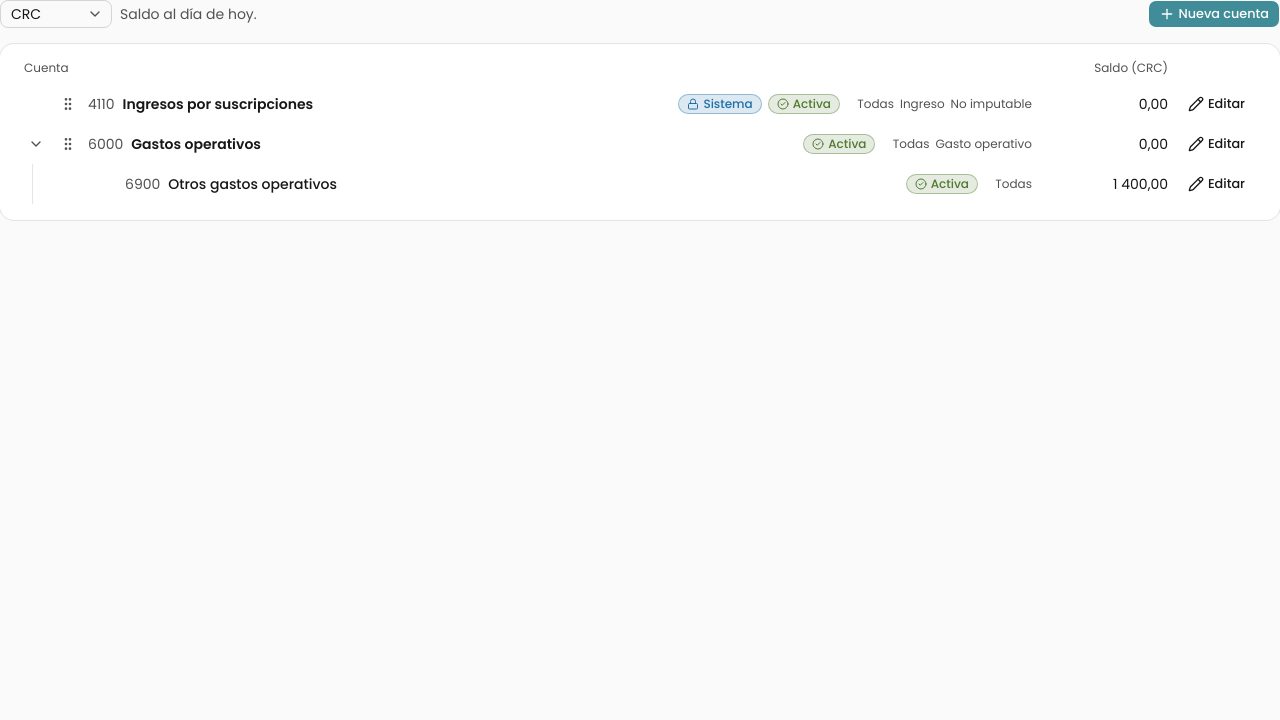
FinanceAccountsTree — cuentas del sistema › no se puede elegir como padre de una cuenta nueva
The image size is (1280, 720).
Click the button "Nueva cuenta": (1214, 14) [1148,0,1279,28]
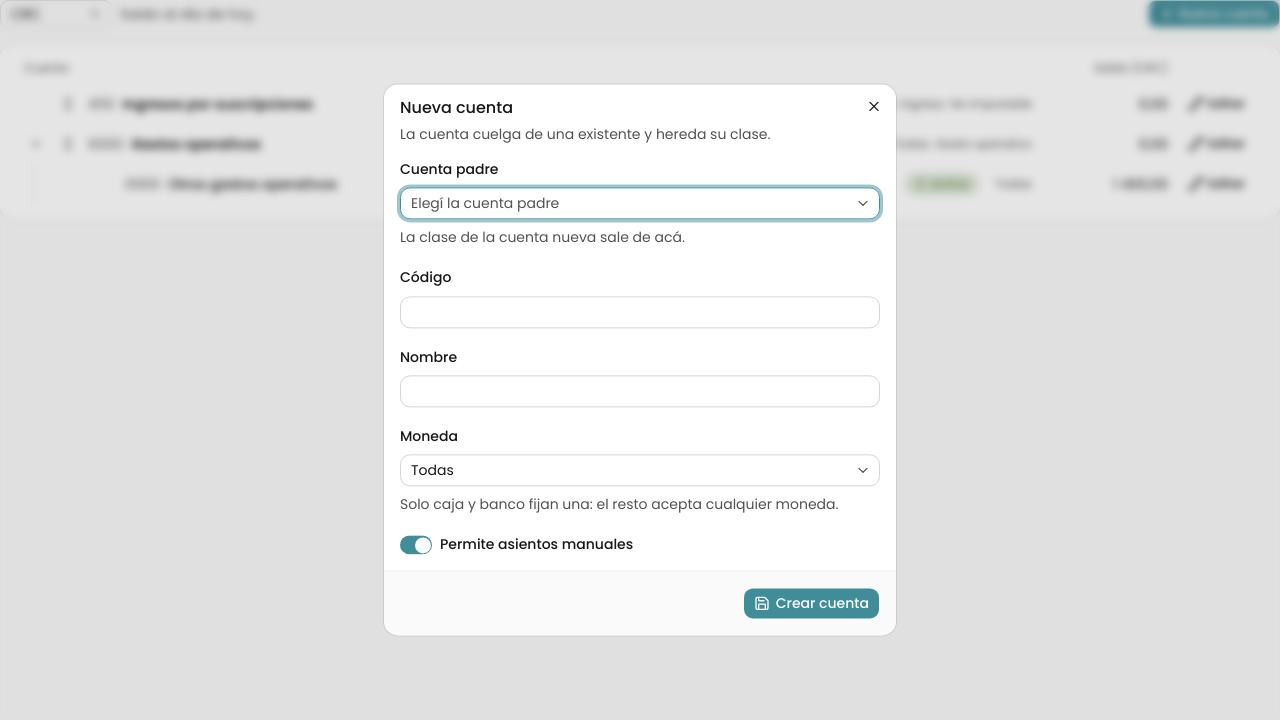
Expected: the dialog is shown, [384,84,896,636]
Click the dropdown labelled "Elegí la cuenta padre": (485, 204) [400,188,880,220]
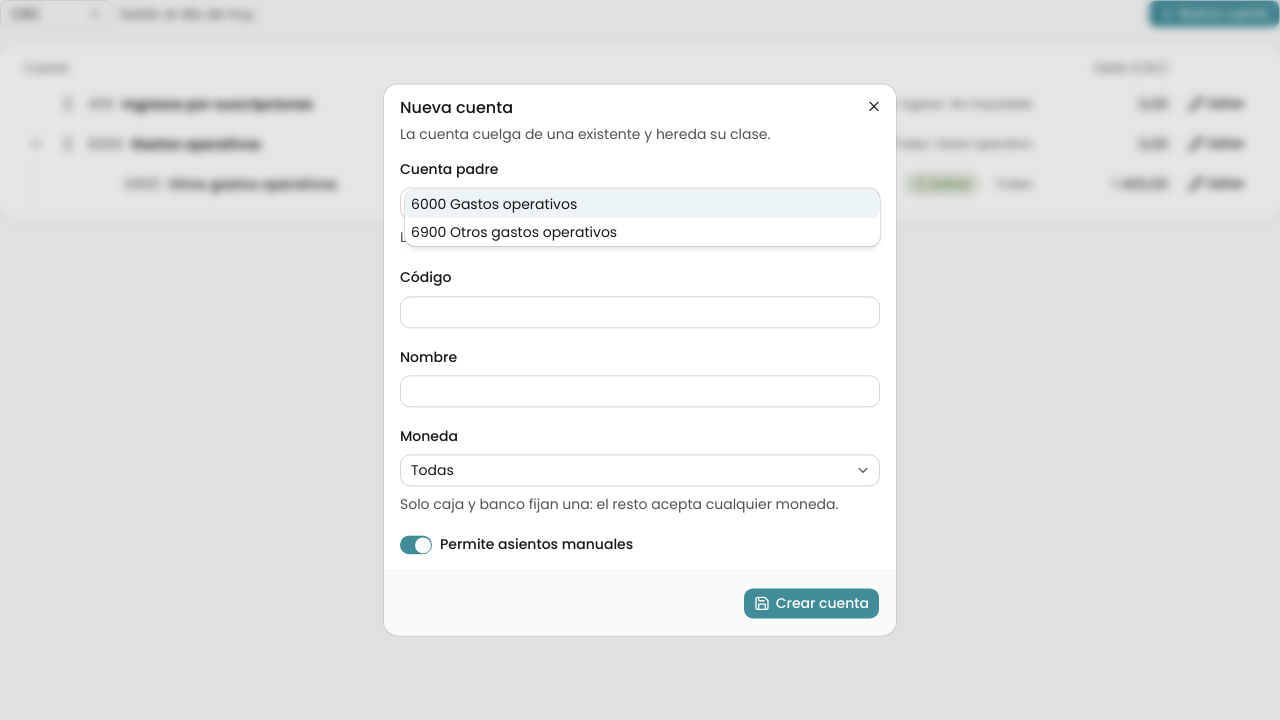
Expected: the option "6000 Gastos operativos" is shown, [405,190,880,218]
